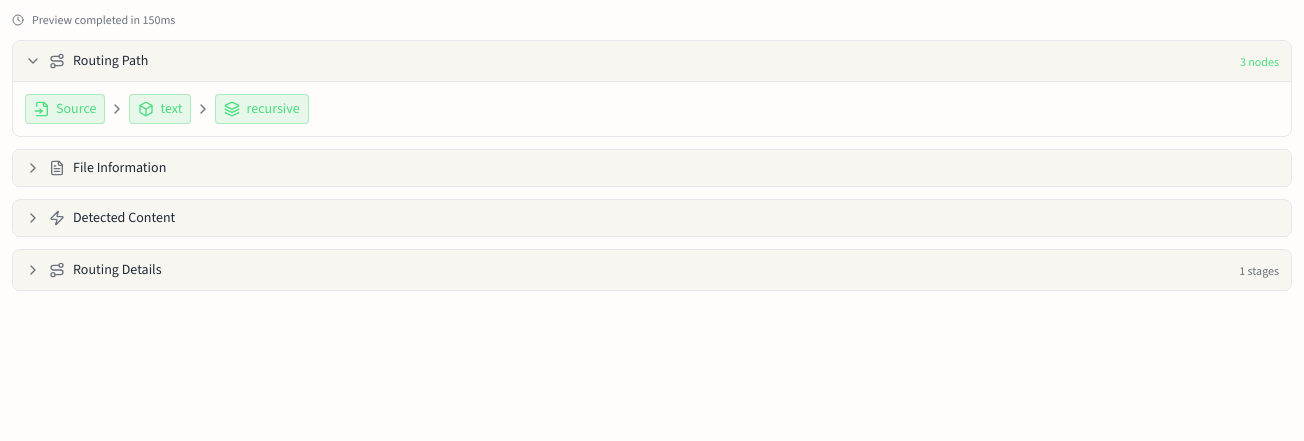
RoutePreviewResults › file information section › displays "none" when extension is null
The width and height of the screenshot is (1304, 441).
Click the button "File Information". click: click(120, 168)
box: [13, 150, 1291, 186]
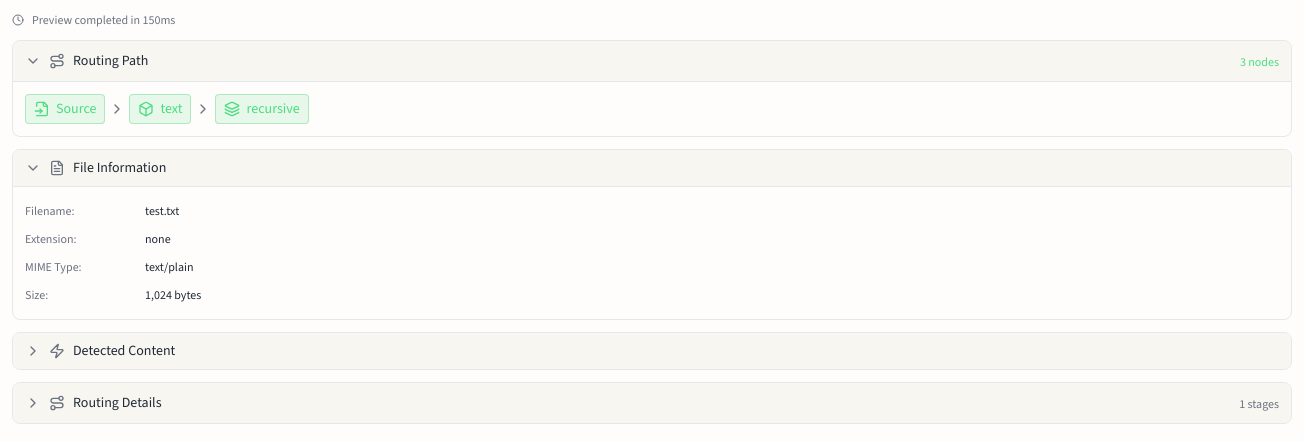
Now the text "none" is shown, box [145, 231, 171, 247]
